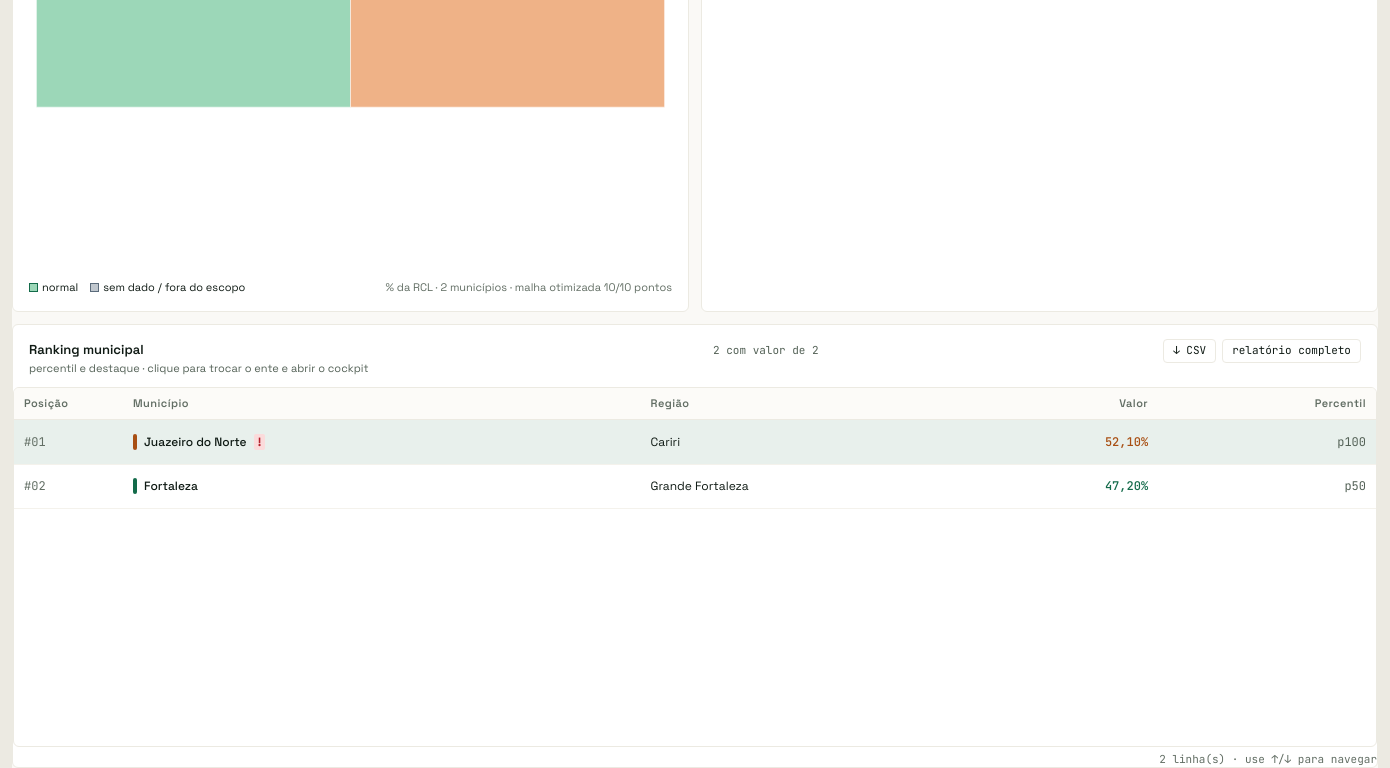
Test: Consolidado UF › o clique no ranking troca o ente do contexto (drill território→ente)
(page scrolled)
Click the text "Juazeiro do Norte". click: (195, 442)
box: 144,434 -> 247,450
(page scrolled)
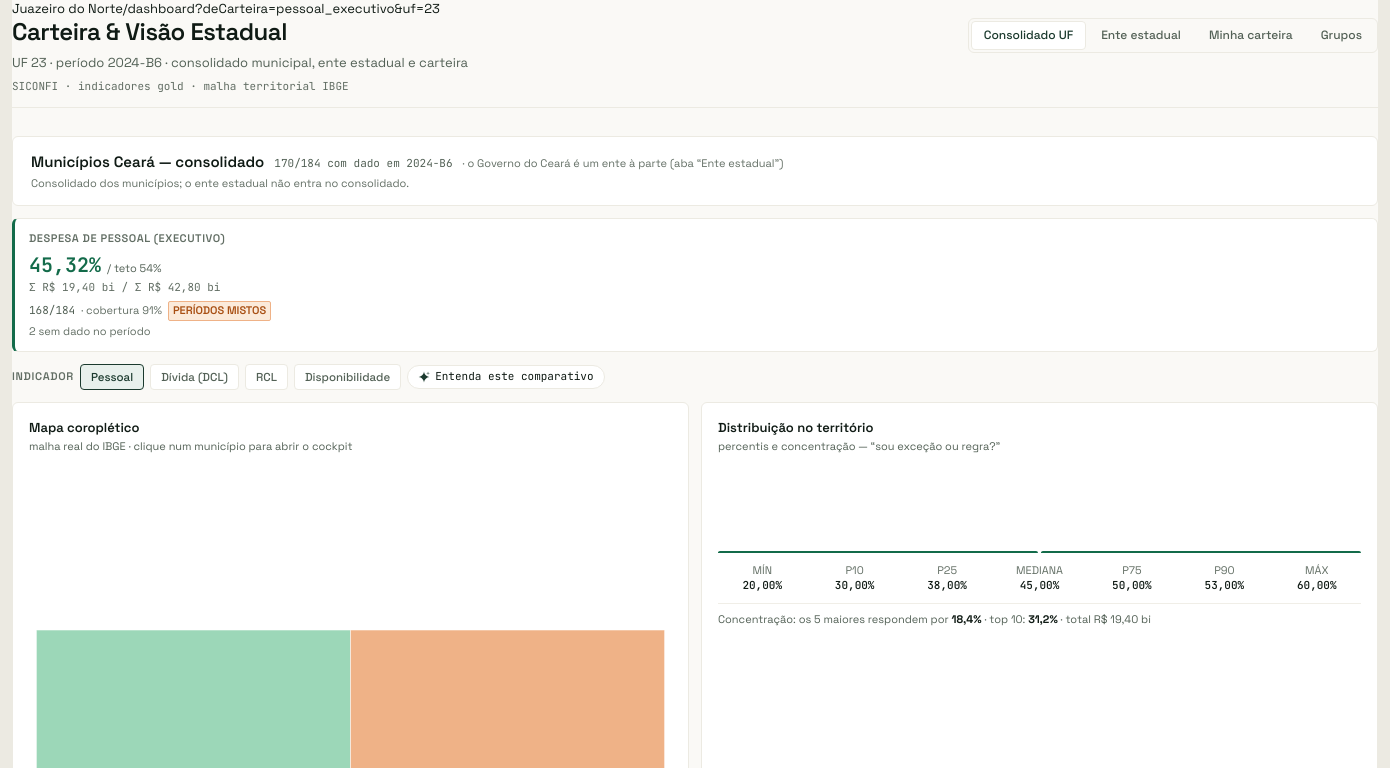
Expected: the text with test id "ente" reads "Juazeiro do Norte", 12,0 -> 123,17
